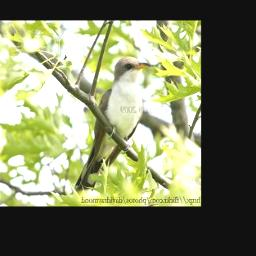Cuckoo: (75, 55, 152, 195)
